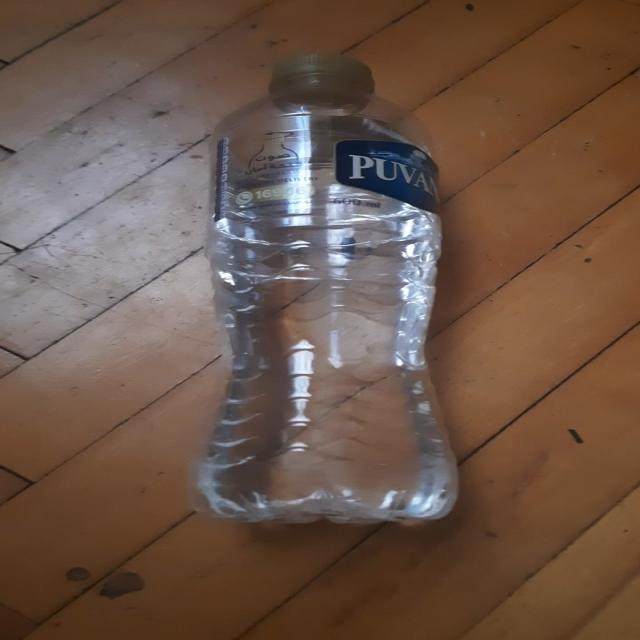Plastic: (191, 53, 460, 530)
